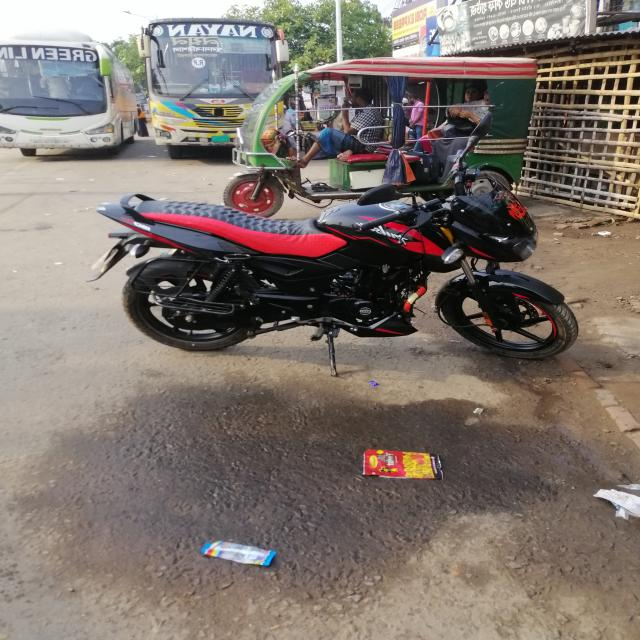Motorbike: (83, 169, 584, 378)
